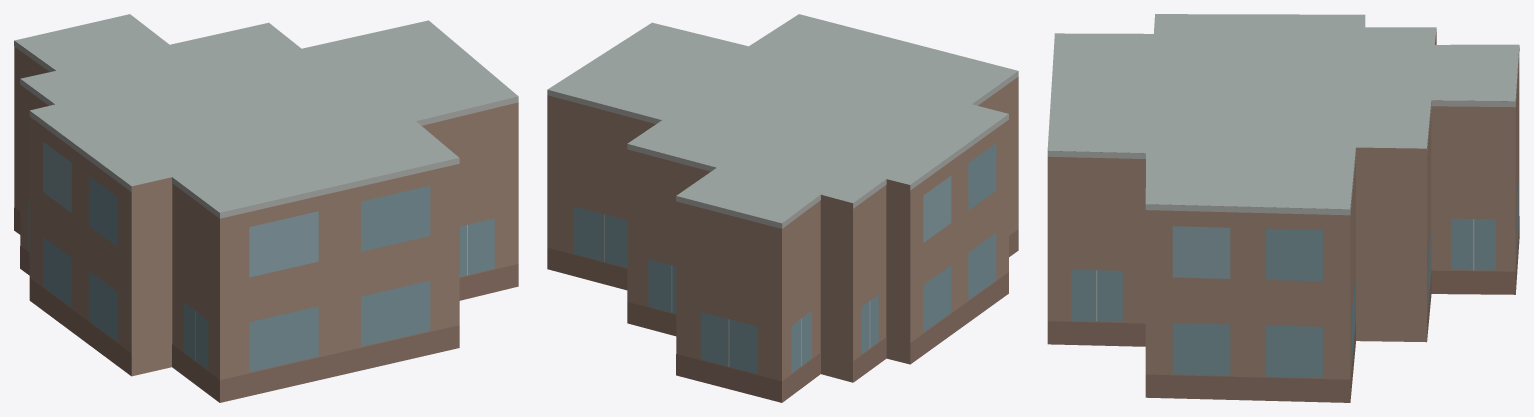
Rendered from survey-upis-32470814.glb.
The picture shows the model from 3 angles, left to right: view 1: azimuth 30°, elevation 25°; view 2: azimuth 150°, elevation 25°; view 3: azimuth 270°, elevation 25°; orthographic projection. The views are drawn at different scales.
Visible parts, largest first — view 1: survey-upis-32470814.tmp; view 2: survey-upis-32470814.tmp; view 3: survey-upis-32470814.tmp.
Boxes of the visible parts, x1,y1,x2,y2 form: survey-upis-32470814.tmp: (14,14,518,402); survey-upis-32470814.tmp: (547,14,1018,402); survey-upis-32470814.tmp: (1047,14,1519,402).
Size of the model in its own units: 17.11 by 7.9 by 17.47.
